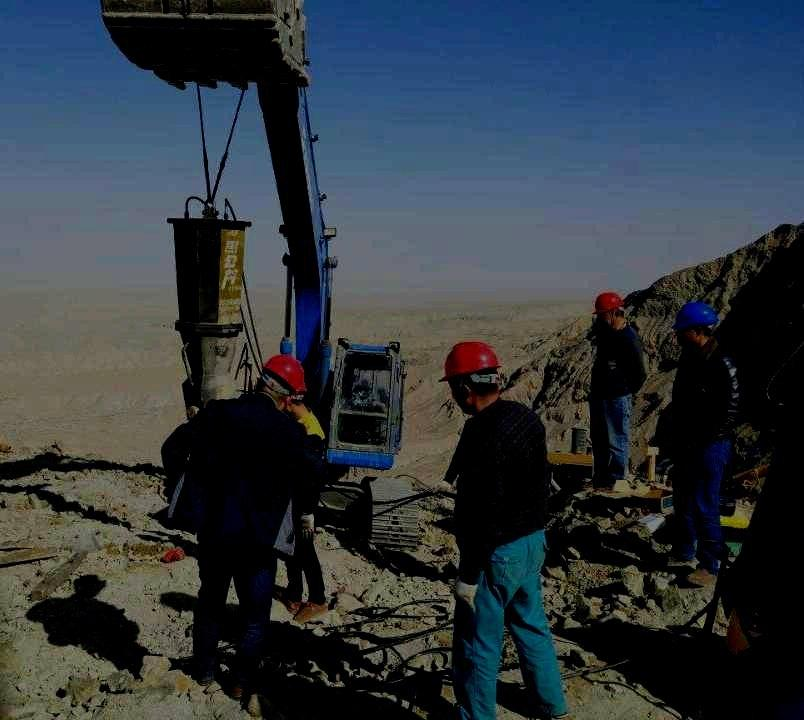helmet: (437, 339, 508, 414), (253, 352, 305, 410), (669, 301, 719, 350), (592, 290, 627, 333), (284, 385, 310, 417)
